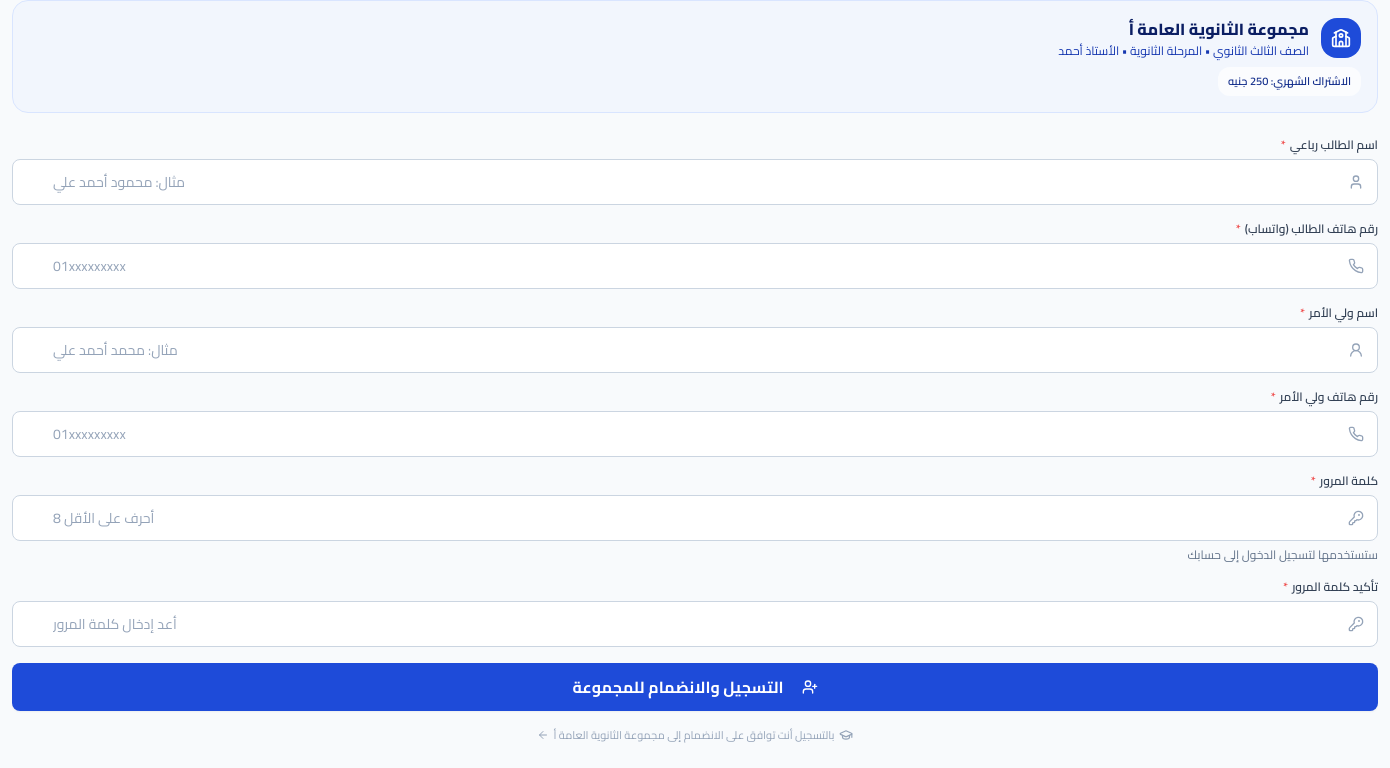
GroupRegistrationForm › rejects mismatched password confirmation
Type "محمود أحمد علي مصطفى" into the field labelled "اسم الطالب رباعي*".
click(695, 182); type("محمود أحمد علي مصطفى")  # box [12,158,1378,204]
Type "01012345678" into the field labelled "رقم هاتف الطالب (واتساب)*".
click(695, 266); type("01012345678")  # box [12,242,1378,288]
Type "محمد أحمد علي" into the field labelled "اسم ولي الأمر*".
click(695, 350); type("محمد أحمد علي")  # box [12,326,1378,372]
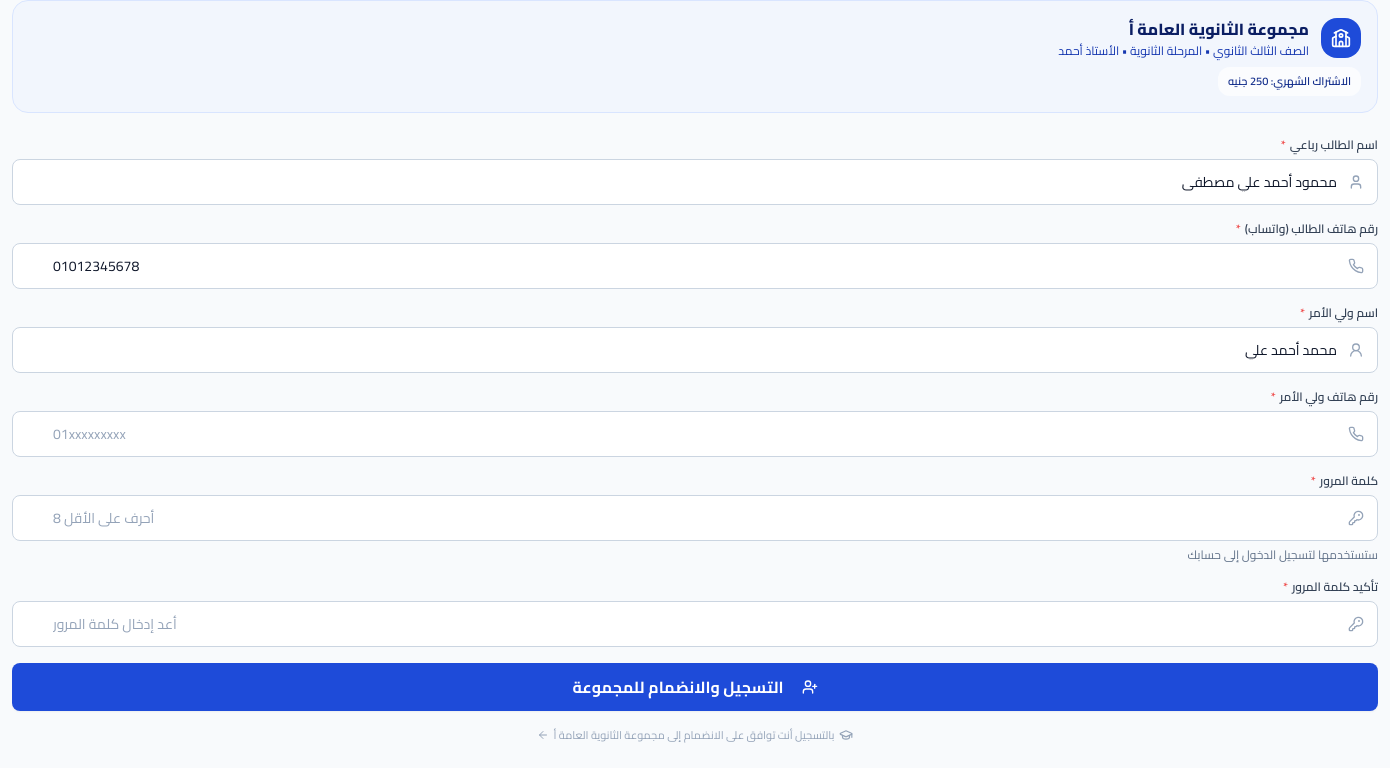
Type "01098765432" into the field labelled "رقم هاتف ولي الأمر*".
click(695, 434); type("01098765432")  # box [12,410,1378,456]
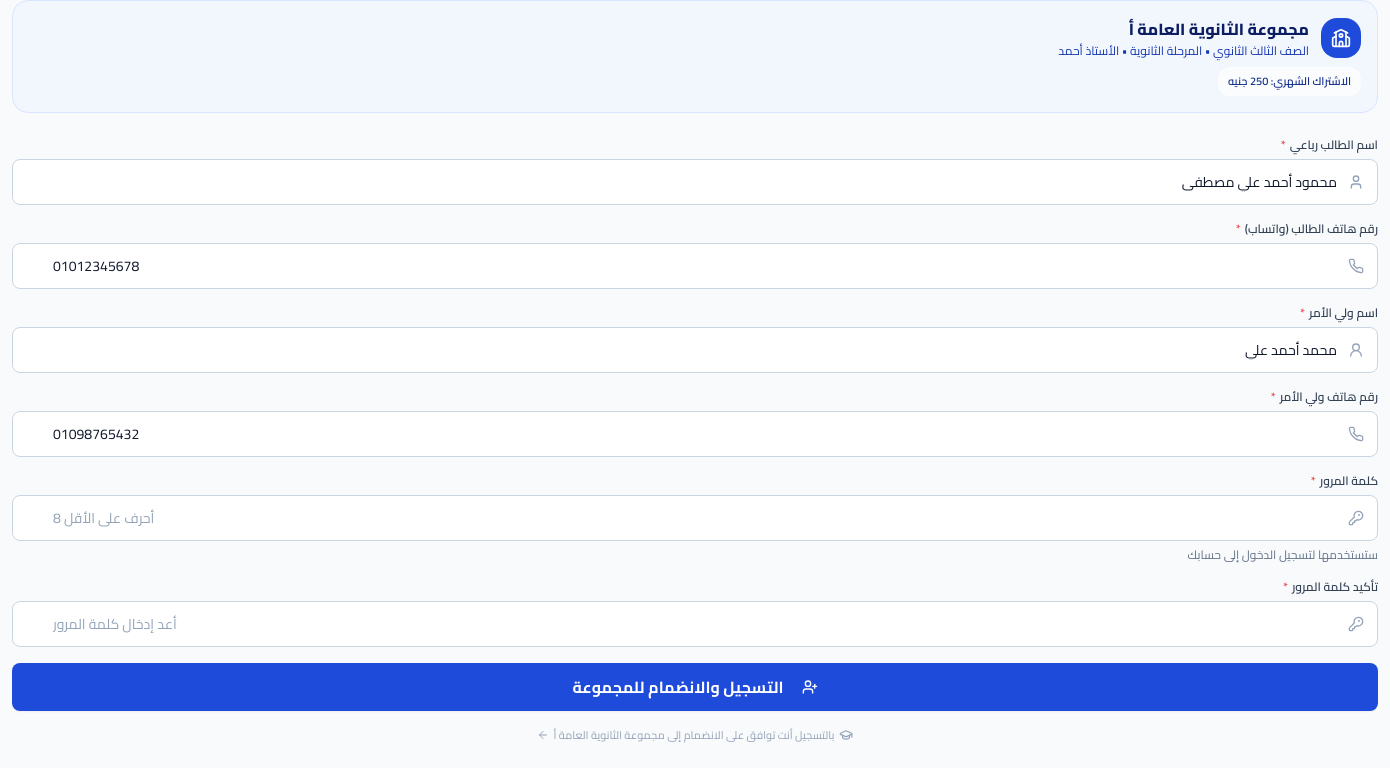
Type "Str0ngPass!" into the password field labelled "كلمة المرور*".
click(695, 518); type("Str0ngPass!")  # box [12,494,1378,540]
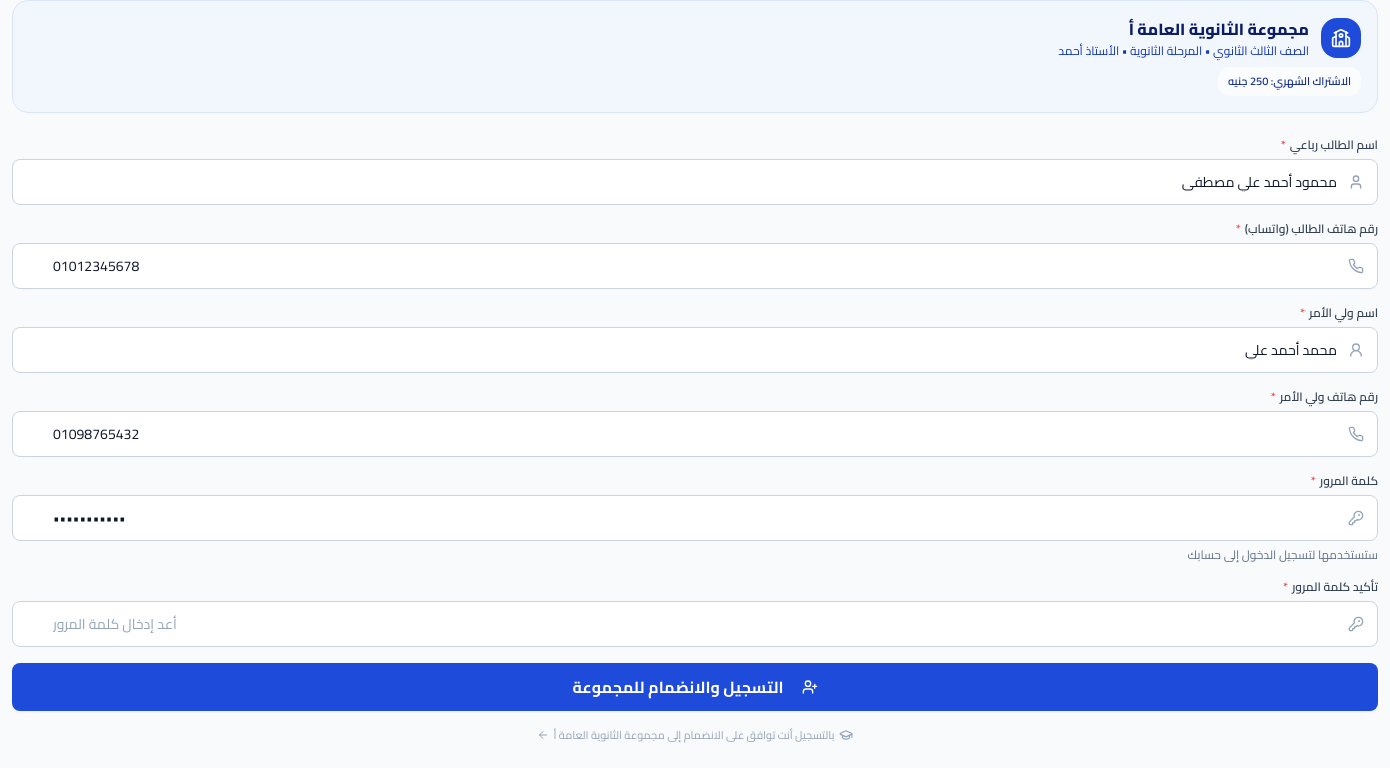
Type "Str0ngPass!" into the password field labelled "تأكيد كلمة المرور*".
click(695, 624); type("Str0ngPass!")  # box [12,600,1378,646]
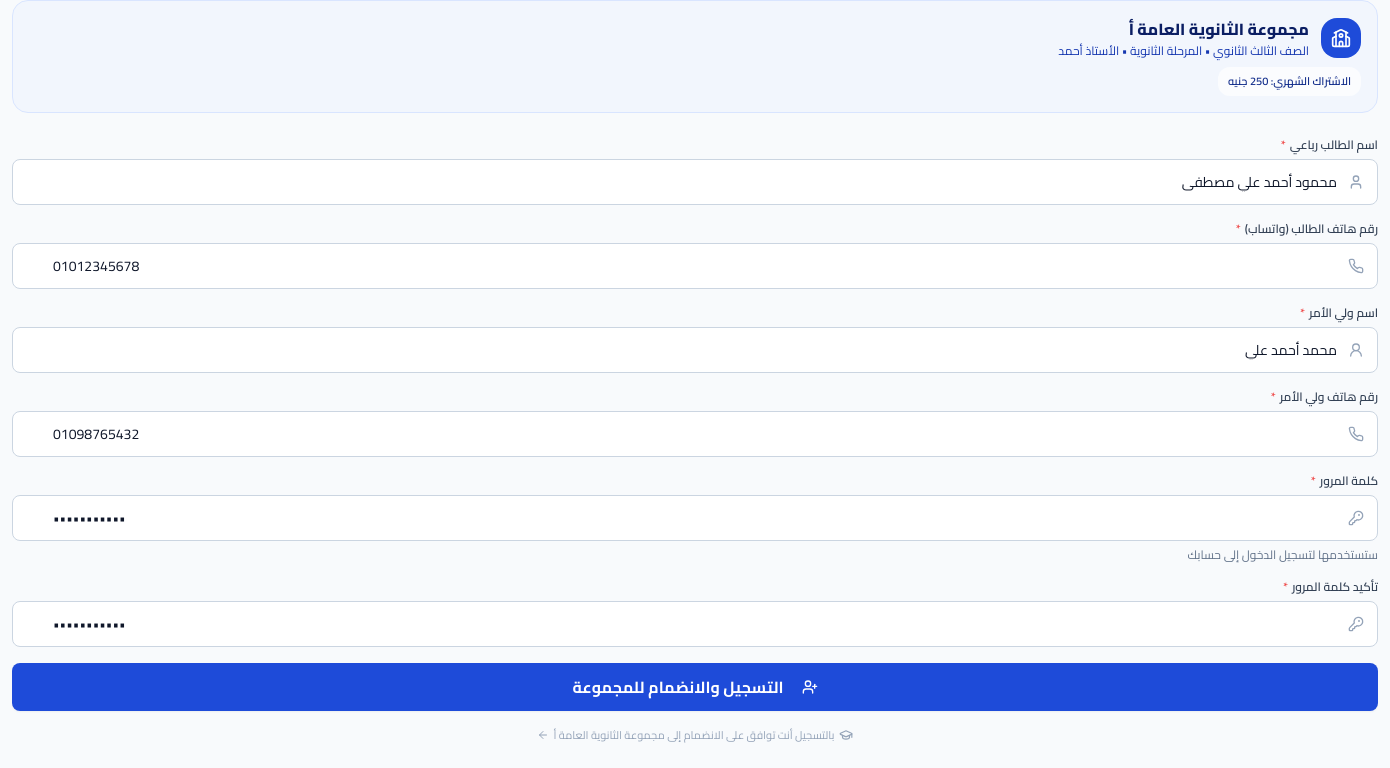
Type "DifferentPass1!" into the password field labelled "تأكيد كلمة المرور*".
click(695, 624); type("DifferentPass1!")  # box [12,600,1378,646]
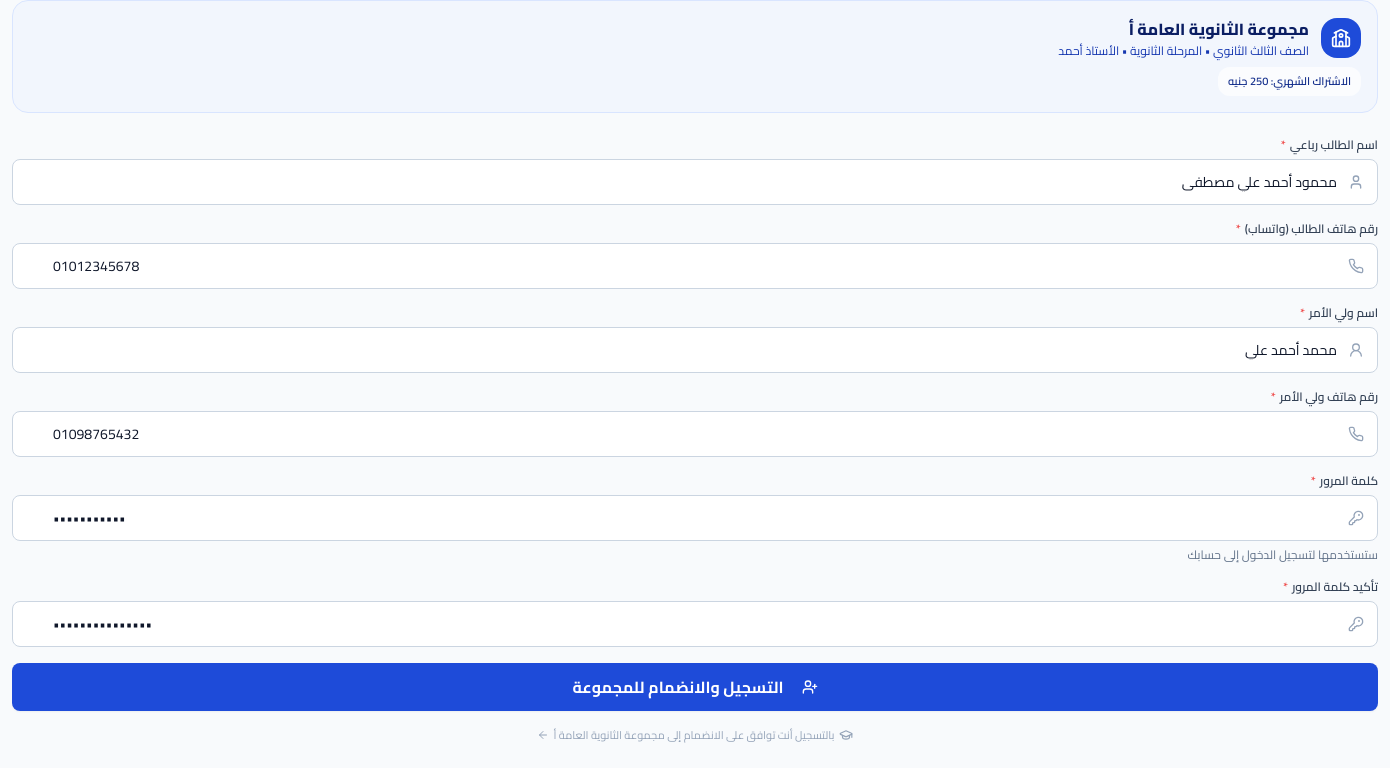
Click the button "التسجيل والانضمام للمجموعة".
click(695, 686)  # box [12,662,1378,710]
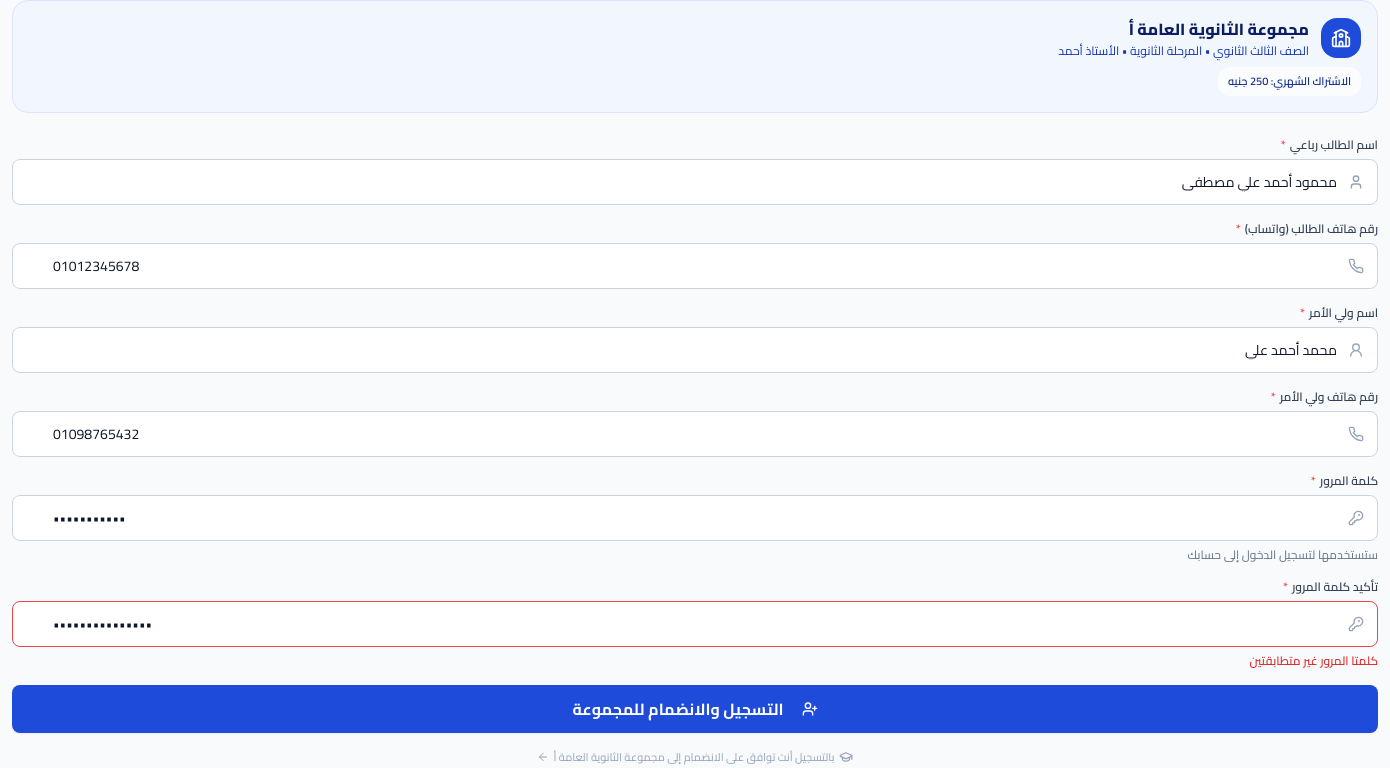
expect the text "كلمتا المرور غير متطابقتين" is shown: met, box [1250,648,1378,672]
